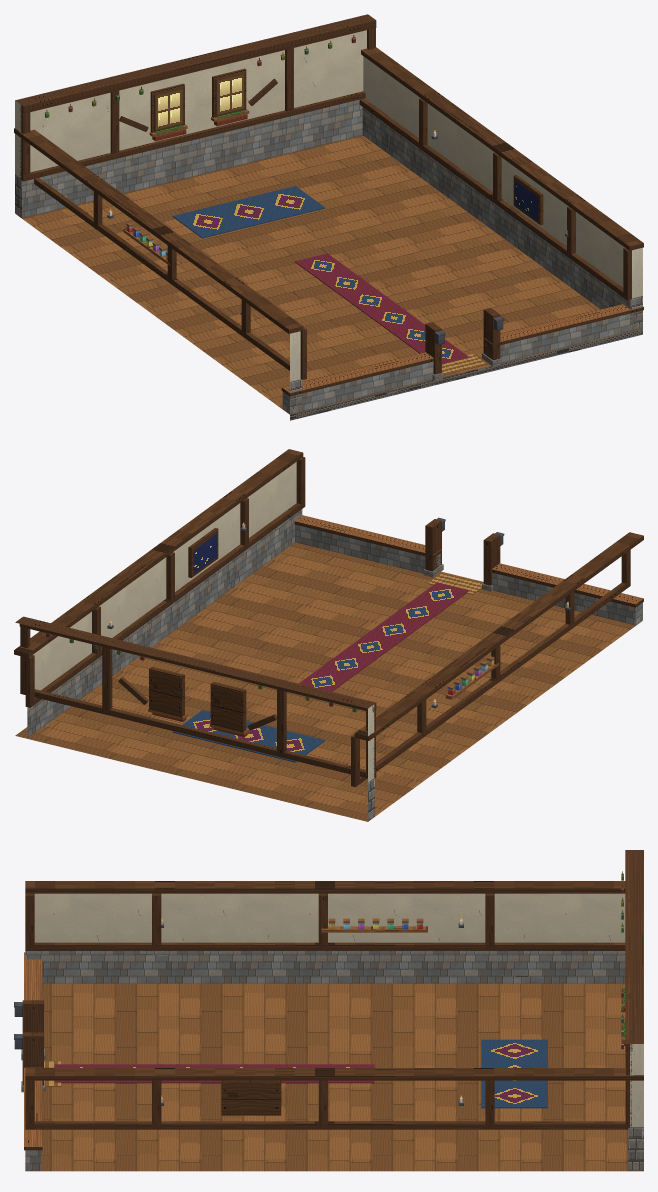
File: room.glb
3 renders of one model, top to bottom at view 1: azimuth 30°, elevation 25°; view 2: azimuth 150°, elevation 25°; view 3: azimuth 270°, elevation 25°, orthographic. The views are drawn at different scales.
Visible parts, largest first — view 1: root; view 2: root; view 3: root.
Boxes of the visible parts, left/top/right/bottom form: root: left=14, top=14, right=643, bottom=420; root: left=14, top=449, right=643, bottom=821; root: left=14, top=850, right=643, bottom=1171.
Bounding box in the file's own units: 692 × 222 × 945.
5 materials, 5 textured.
